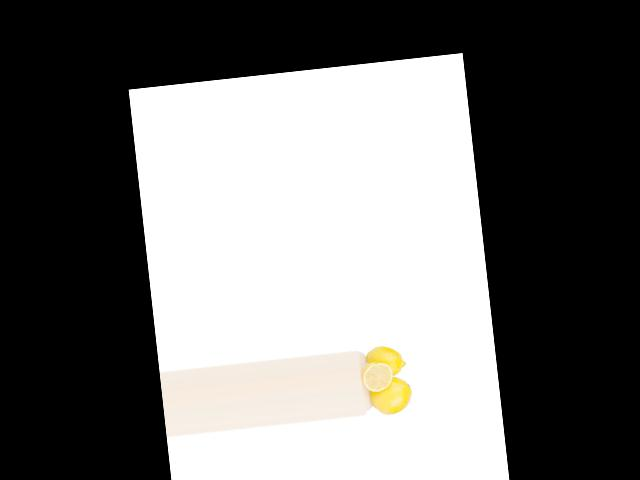lemon: (360, 341, 407, 379)
